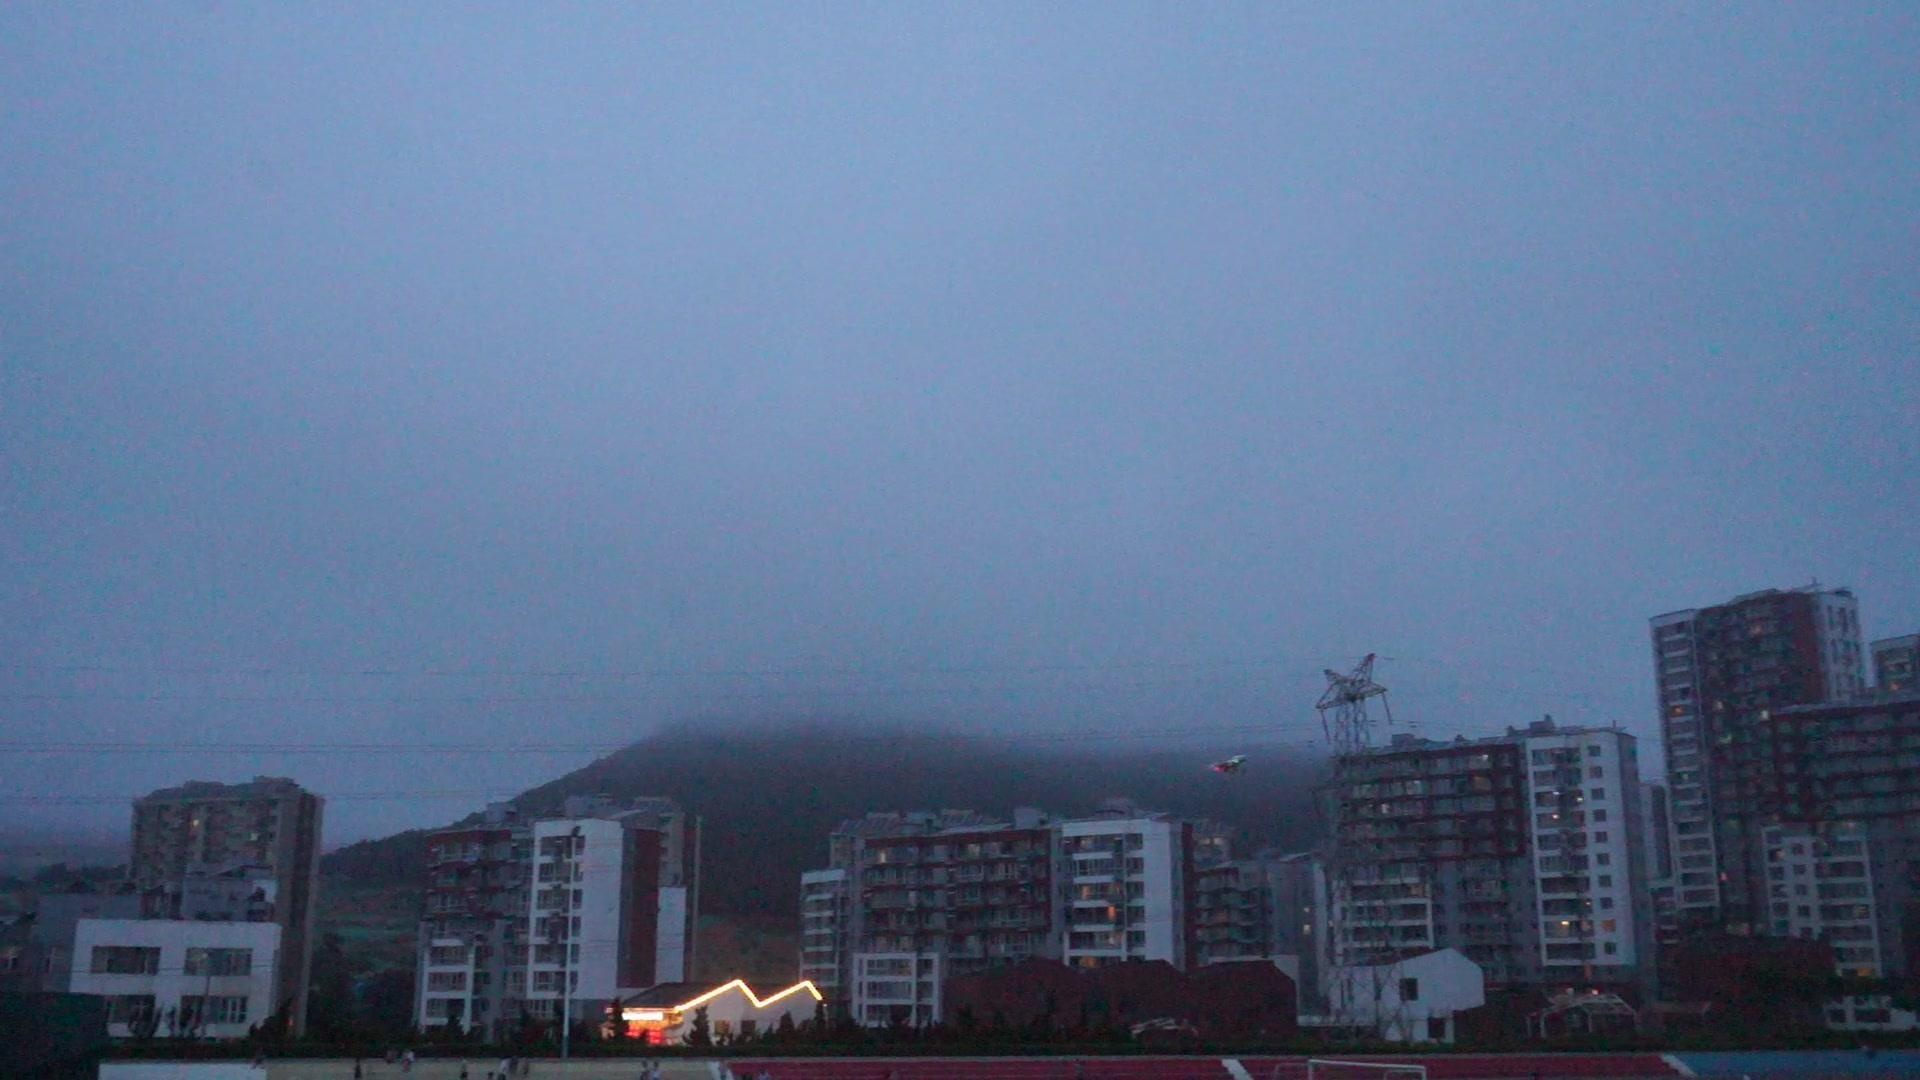UAV: (1209, 756, 1249, 782)
